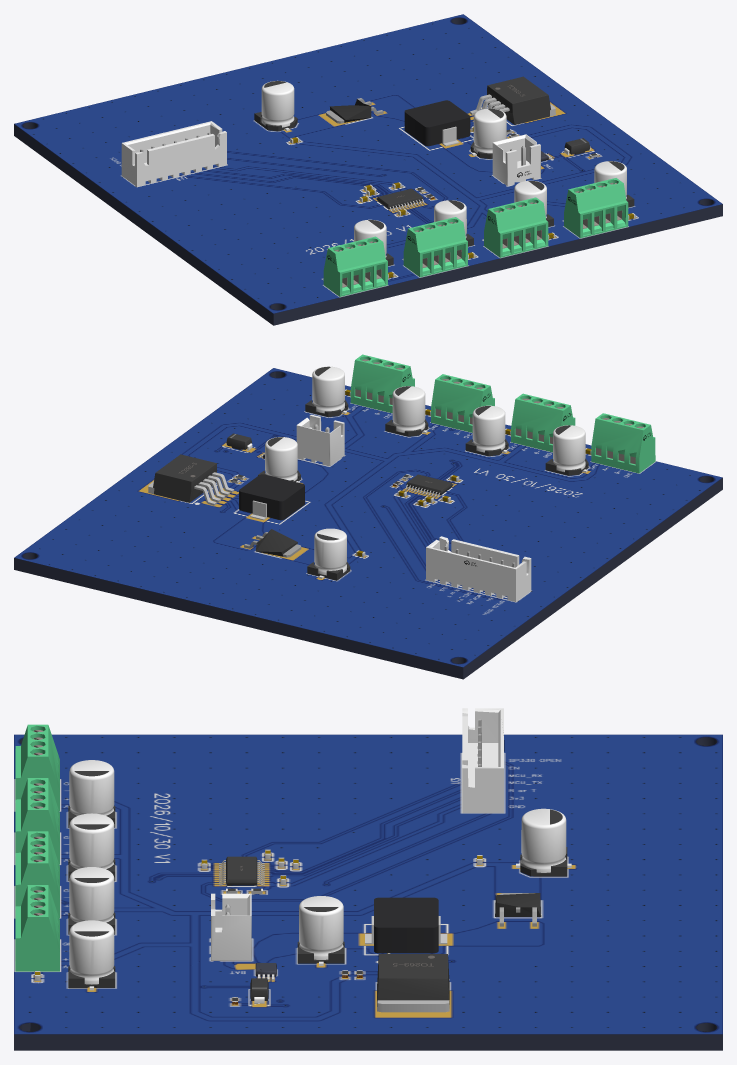
3 renders of one model, top to bottom at view 1: azimuth 30°, elevation 25°; view 2: azimuth 150°, elevation 25°; view 3: azimuth 270°, elevation 25°, orthographic. The views are drawn at different scales.
Parts seen in each view (by area): view 1: PCB_top, parts_mtl8, parts_mtl3, PCB_edge, parts_mtl12, parts_L_body, parts_mtl22, parts_mtl4, parts_mtl7, parts_mtl13, parts_mtl21; view 2: PCB_top, parts_mtl3, parts_mtl8, PCB_edge, parts_mtl12, parts_mtl4, parts_L_body, parts_mtl22, parts_mtl13, parts_mtl7, parts_mtl21; view 3: PCB_top, parts_mtl3, PCB_edge, parts_mtl8, parts_mtl12, parts_L_body, parts_mtl4, parts_mtl22, parts_mtl13, parts_mtl21.
Boxes of the visible parts, box(x1,y1,x2,y2) form: PCB_top: box(14, 14, 722, 313); parts_mtl8: box(323, 178, 628, 296); parts_mtl3: box(121, 80, 626, 257); PCB_edge: box(14, 18, 722, 325); parts_mtl12: box(377, 76, 550, 209); parts_L_body: box(404, 100, 470, 146); parts_mtl22: box(492, 134, 540, 186); parts_mtl4: box(254, 81, 634, 265); parts_mtl7: box(334, 182, 622, 287); parts_mtl13: box(375, 94, 555, 211); parts_mtl21: box(330, 99, 371, 122); PCB_top: box(14, 368, 722, 667); parts_mtl3: box(226, 366, 587, 601); parts_mtl8: box(350, 354, 655, 473); PCB_edge: box(14, 371, 722, 679); parts_mtl12: box(153, 454, 452, 502); parts_mtl4: box(226, 366, 588, 580); parts_L_body: box(239, 474, 304, 520); parts_mtl22: box(296, 414, 344, 466); parts_mtl13: box(148, 424, 453, 505); parts_mtl7: box(355, 359, 643, 464); parts_mtl21: box(255, 529, 297, 556); PCB_top: box(14, 734, 722, 1034); parts_mtl3: box(69, 708, 571, 1004); PCB_edge: box(14, 737, 722, 1050); parts_mtl8: box(15, 724, 59, 971); parts_mtl12: box(226, 856, 449, 1006); parts_L_body: box(374, 897, 438, 953); parts_mtl4: box(68, 771, 567, 1000); parts_mtl22: box(211, 893, 251, 960); parts_mtl13: box(219, 860, 449, 1012); parts_mtl21: box(495, 893, 541, 916).
Size of the model in its own units: 0.0997 by 0.012 by 0.0997.
27 materials, 2 textured.
